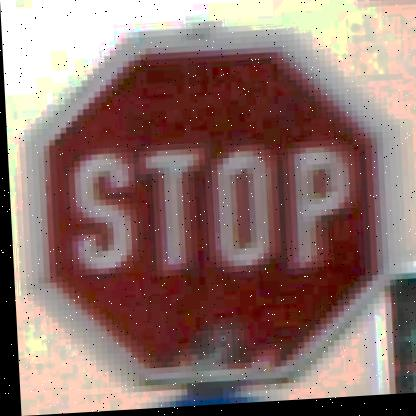Stop Sign: (24, 21, 398, 391)
